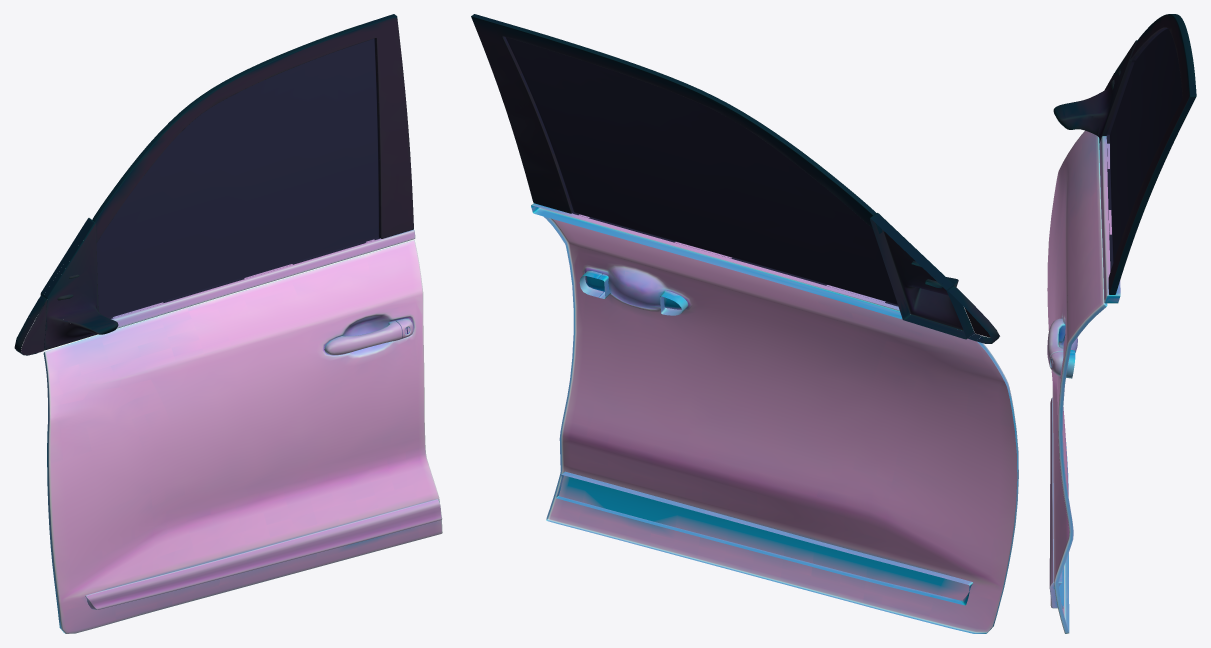
File: door_FL.glb
3 renders of one model, left to right at view 1: azimuth 30°, elevation 25°; view 2: azimuth 150°, elevation 25°; view 3: azimuth 270°, elevation 25°, orthographic. The views are drawn at different scales.
Visible parts, largest first — view 1: Front_Doors_9, windowglass_39, black_10, chrome_3, black_11, chrome_4, black_12; view 2: Front_Doors_9, windowglass_39, black_10, black_11, chrome_3, chrome_4, black_12; view 3: Front_Doors_9, windowglass_39, black_10, black_11, chrome_3, chrome_4.
Boxes of the visible parts, x1,y1,x2,y2 form: Front_Doors_9: [43, 240, 442, 633]; windowglass_39: [96, 38, 380, 318]; black_10: [92, 14, 413, 242]; chrome_3: [85, 318, 442, 609]; black_11: [40, 218, 118, 350]; chrome_4: [111, 229, 415, 334]; black_12: [14, 274, 79, 355]; Front_Doors_9: [543, 216, 1018, 633]; windowglass_39: [503, 36, 898, 306]; black_10: [471, 14, 882, 233]; black_11: [870, 213, 973, 339]; chrome_3: [556, 271, 972, 605]; chrome_4: [531, 203, 902, 319]; black_12: [911, 261, 999, 343]; Front_Doors_9: [1047, 130, 1107, 633]; windowglass_39: [1106, 28, 1182, 271]; black_10: [1108, 14, 1196, 294]; black_11: [1053, 40, 1137, 143]; chrome_3: [1047, 318, 1075, 608]; chrome_4: [1050, 136, 1120, 367].
Bounding box in the file's own units: 1.19 × 1.32 × 0.3233.
